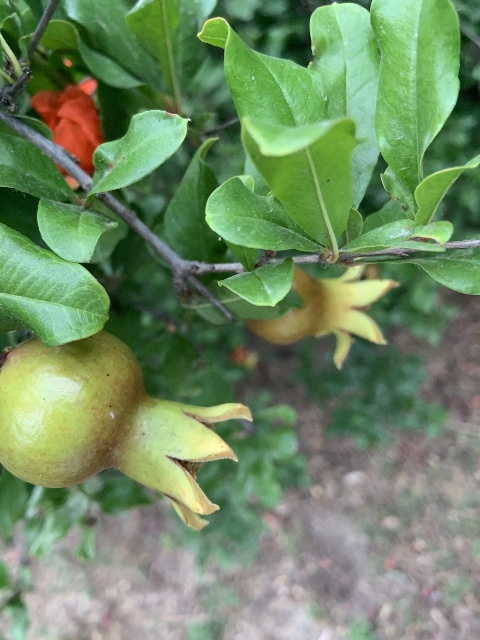early-fruit: (243, 263, 398, 369)
flower: (30, 76, 105, 188)
mid-growth: (0, 329, 252, 530)
